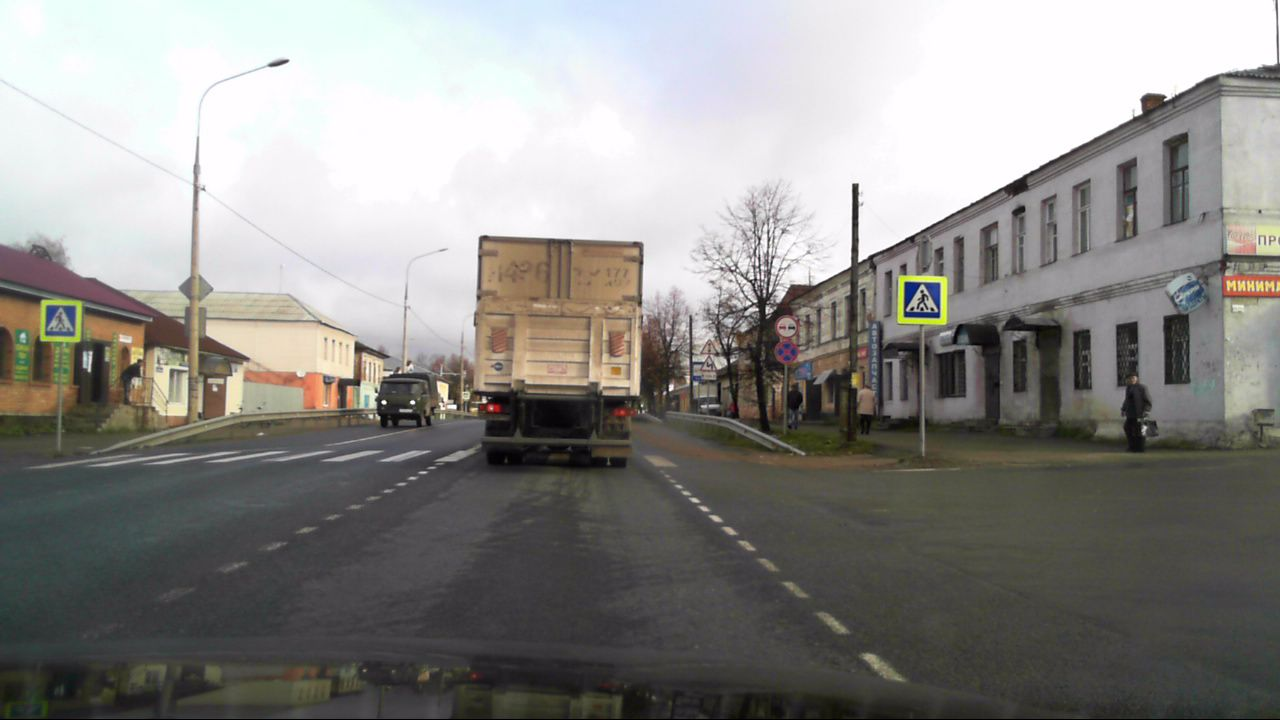No Parking: (773, 340, 798, 364)
